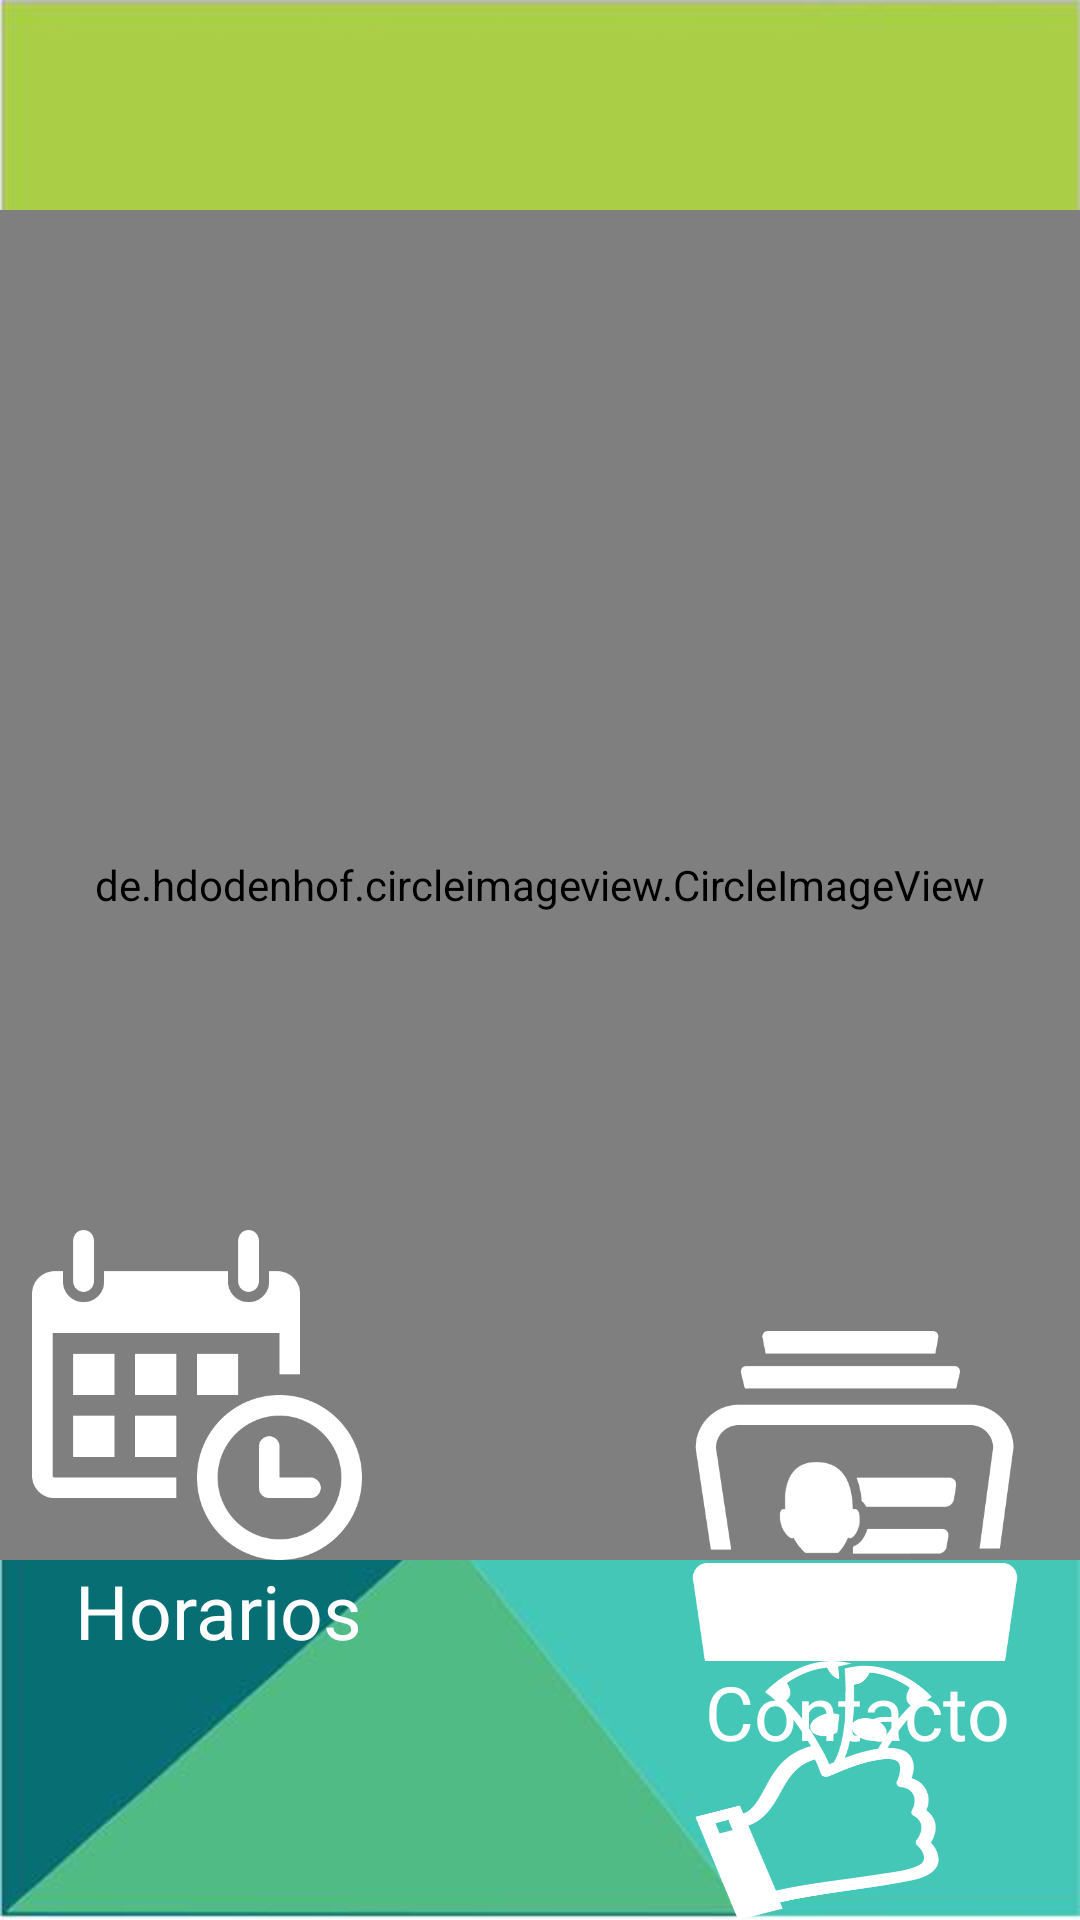

Named icons in this screenshot (1080px×1920px) and their centers, point (x, y):
business: point (855, 1496)
calendar: point (176, 1364)
